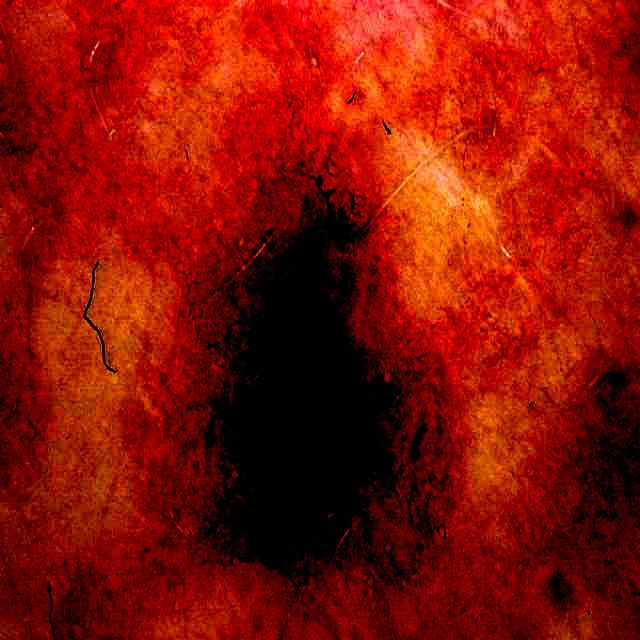NV: (179, 121, 458, 580)
